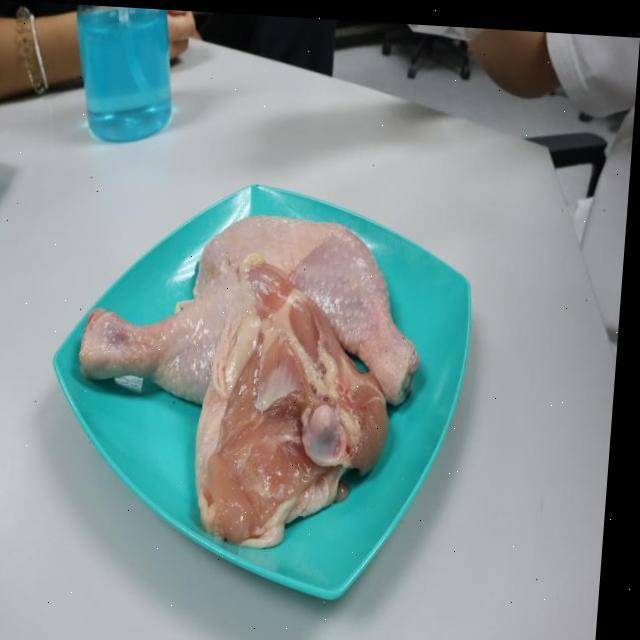quater: (71, 264, 388, 549), (187, 200, 433, 395)
